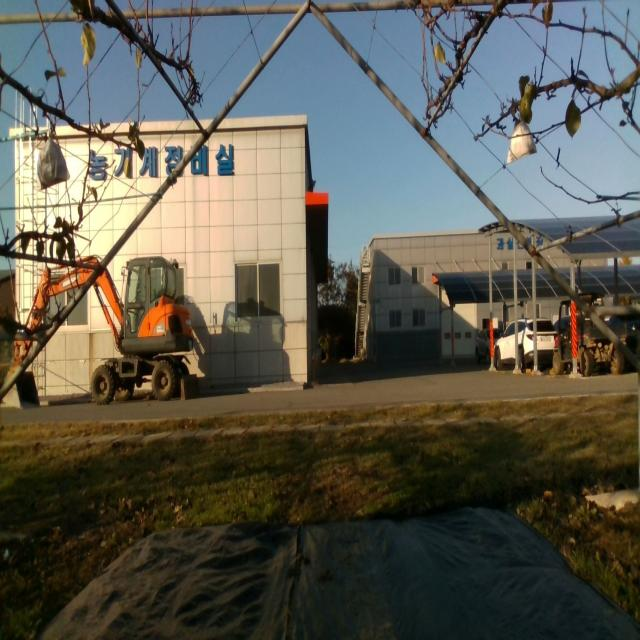pearbags: (37, 128, 71, 192), (507, 119, 538, 164)
